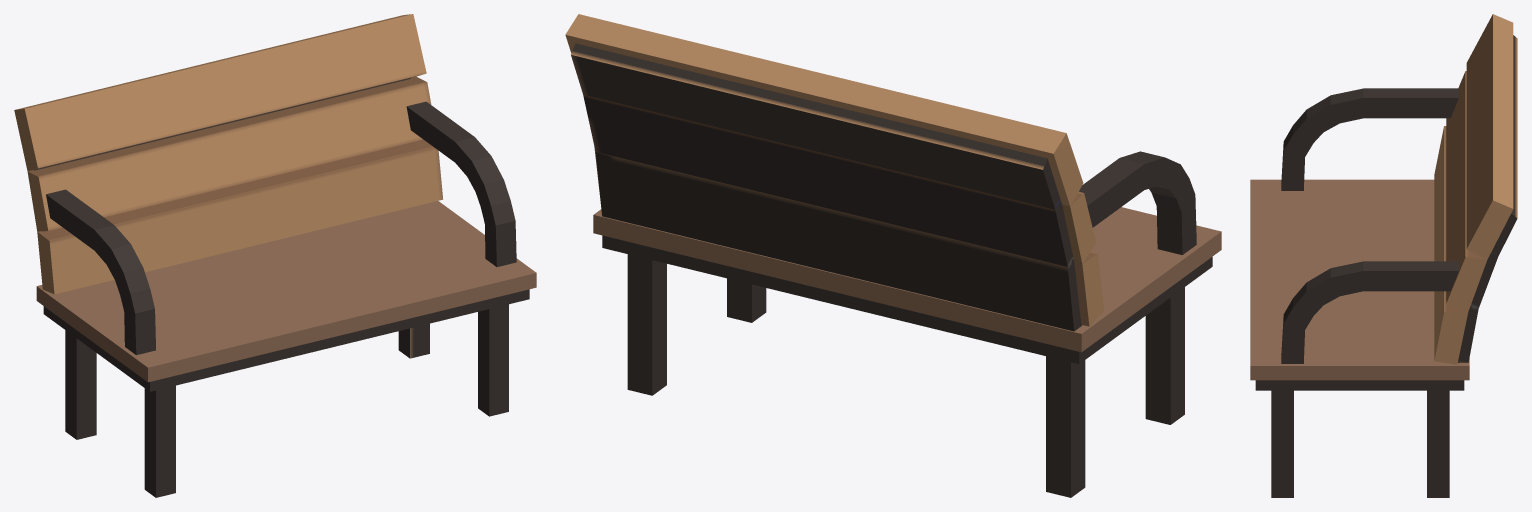
Rendered from Bench.fbx.
The picture shows the model from 3 angles, left to right: view 1: azimuth 30°, elevation 25°; view 2: azimuth 150°, elevation 25°; view 3: azimuth 270°, elevation 25°; orthographic projection. The views are drawn at different scales.
Visible parts, largest first — view 1: Bench; view 2: Bench; view 3: Bench.
Boxes of the visible parts, x1,y1,x2,y2 form: Bench: [14, 14, 536, 497]; Bench: [565, 14, 1221, 497]; Bench: [1250, 14, 1517, 497].
Size of the model in its own units: 1.24 by 0.9495 by 0.7515.
